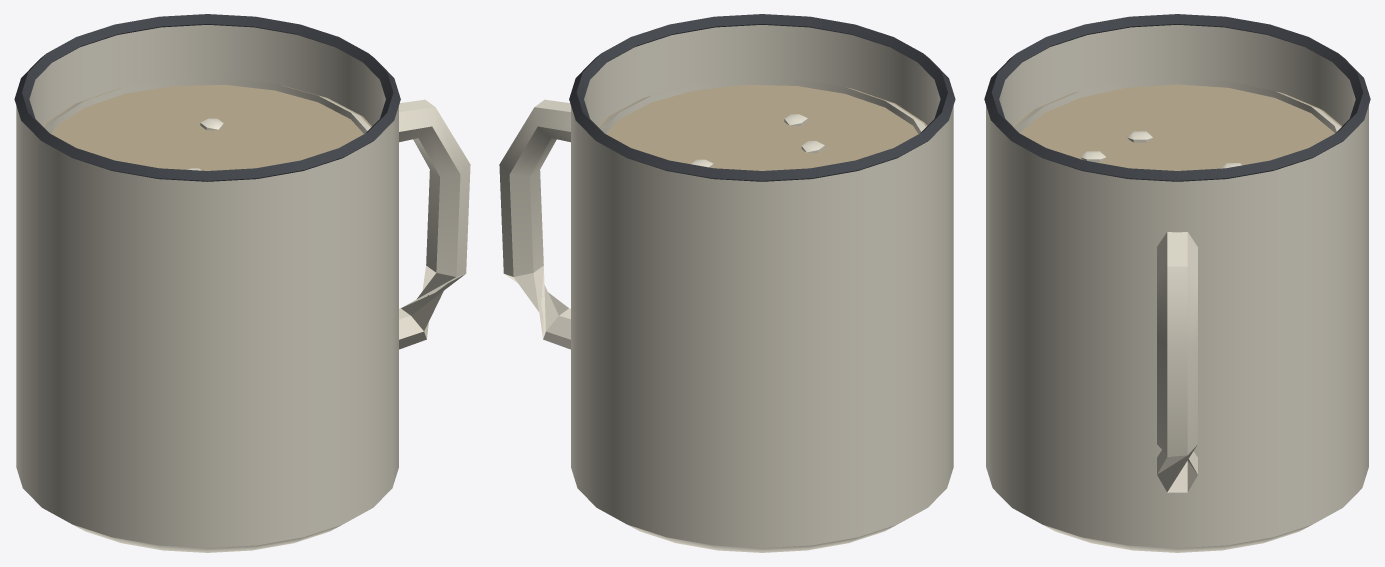
Rendered from cook_milk_tea.glb.
The picture shows the model from 3 angles, left to right: view 1: azimuth 30°, elevation 25°; view 2: azimuth 150°, elevation 25°; view 3: azimuth 270°, elevation 25°; orthographic projection.
Parts seen in each view (by area): view 1: body; view 2: body; view 3: body.
Part boxes in pixels (left/top/right/bottom): body: left=14, top=14, right=470, bottom=552; body: left=499, top=14, right=955, bottom=552; body: left=984, top=14, right=1370, bottom=552.
Bounding box in the file's own units: 0.0526 × 0.0458 × 0.0414.
